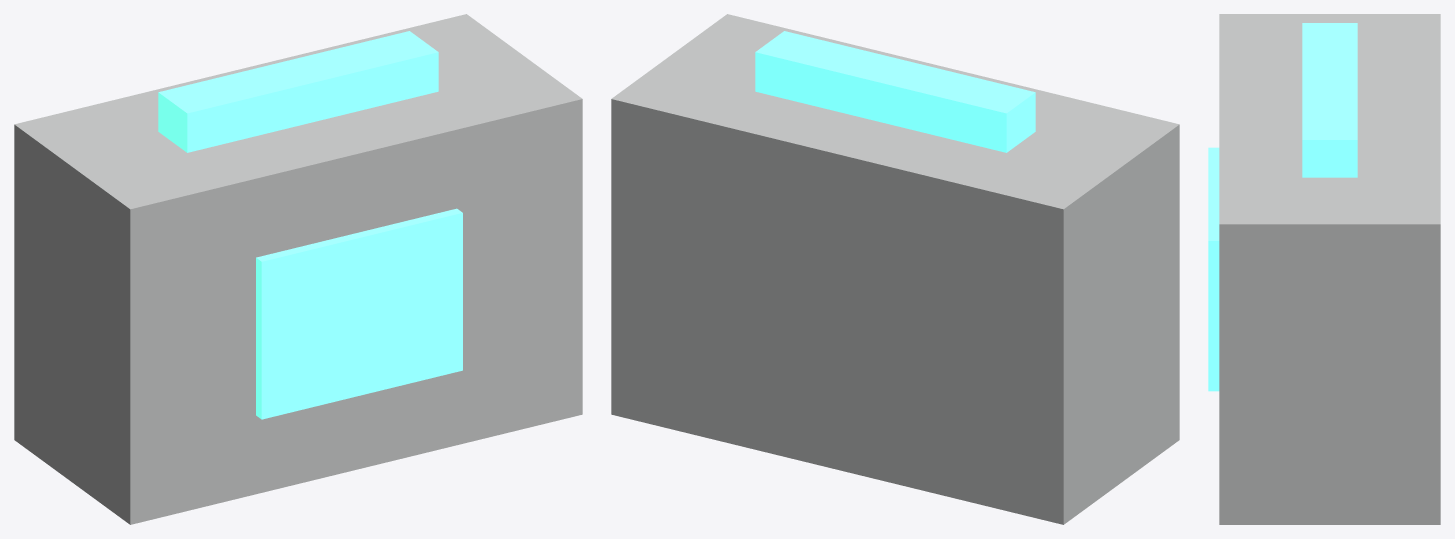
File: item_F1_ReviveKit.glb
3 views of the same model, side by side, from view 1: azimuth 30°, elevation 25°; view 2: azimuth 150°, elevation 25°; view 3: azimuth 270°, elevation 25° (orthographic). The views are drawn at different scales.
Visible parts, largest first — view 1: Item_F1_ReviveKit; view 2: Item_F1_ReviveKit; view 3: Item_F1_ReviveKit.
Part boxes in pixels (bbox=[...]): Item_F1_ReviveKit: bbox=[14, 14, 582, 524]; Item_F1_ReviveKit: bbox=[611, 14, 1179, 524]; Item_F1_ReviveKit: bbox=[1208, 14, 1440, 524].
Bounding box in the file's own units: 0.18 × 0.135 × 0.084.
